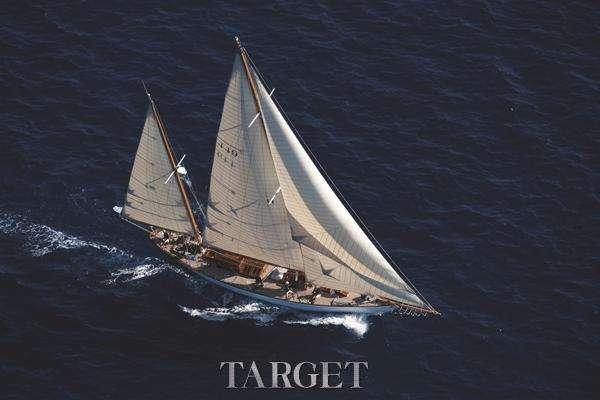fanchuan: (119, 32, 445, 315)
